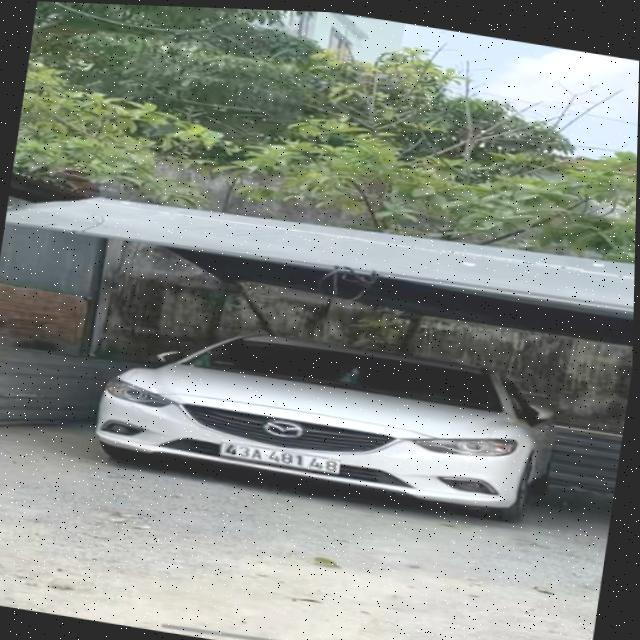car: (80, 293, 577, 550)
plate: (202, 427, 355, 489)
